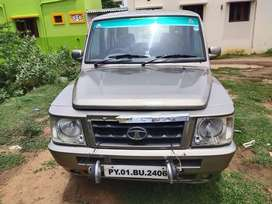PY01BU2406: (103, 164, 168, 178)
